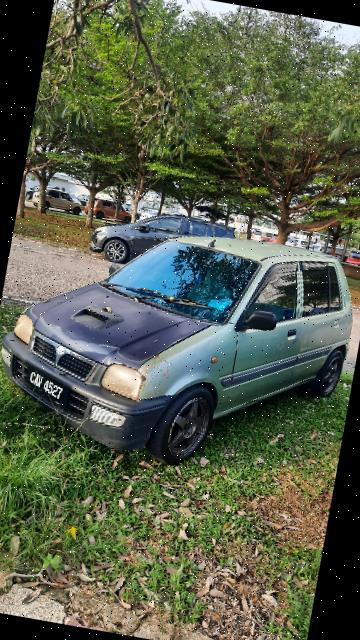License_Plate: (13, 357, 87, 419)
car: (1, 198, 360, 496)
